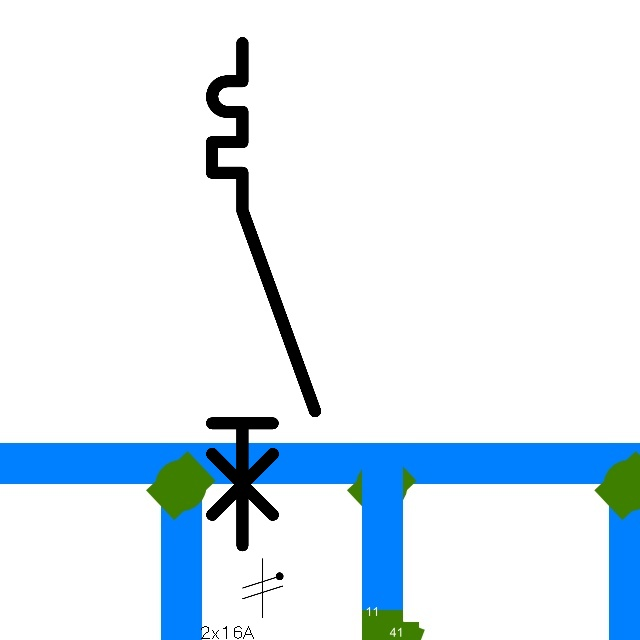interruptor_termomagnetico: (199, 30, 328, 558)
